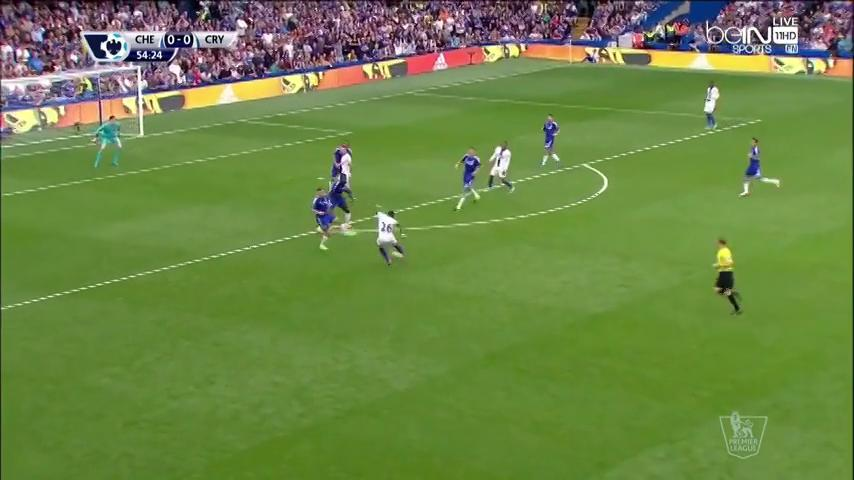football: (390, 251, 403, 259)
